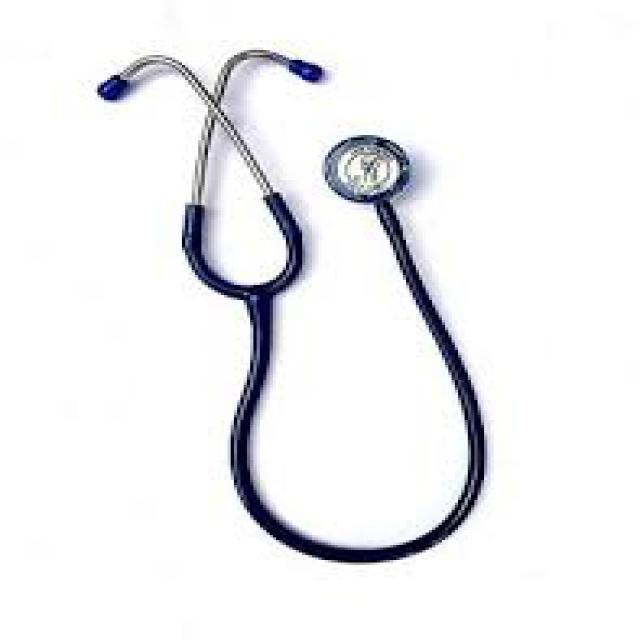stethoscope: (63, 57, 530, 584)
